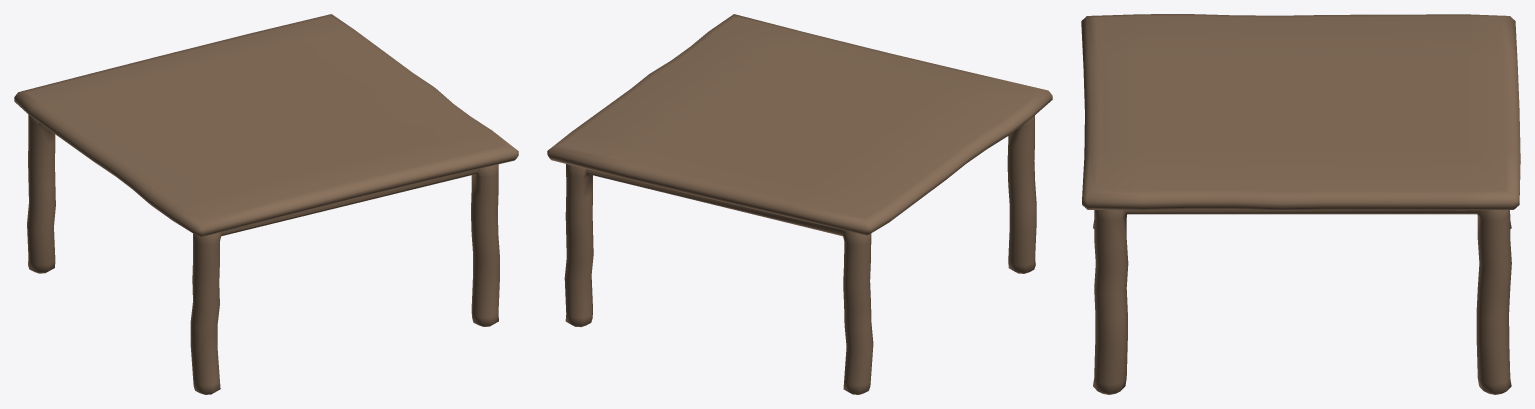
Rendered from table-2.fbx.
3 renders of one model, left to right at view 1: azimuth 30°, elevation 25°; view 2: azimuth 150°, elevation 25°; view 3: azimuth 270°, elevation 25°, orthographic. The views are drawn at different scales.
Visible parts, largest first — view 1: Plane, Frame; view 2: Plane, Frame; view 3: Plane, Frame.
Boxes of the visible parts, x1,y1,x2,y2 form: Plane: (14,14,518,237); Frame: (27,114,499,394); Plane: (547,14,1052,235); Frame: (564,115,1036,394); Plane: (1081,14,1520,210); Frame: (1093,209,1511,394).
Bounding box in the file's own units: 204 × 106 × 202.
